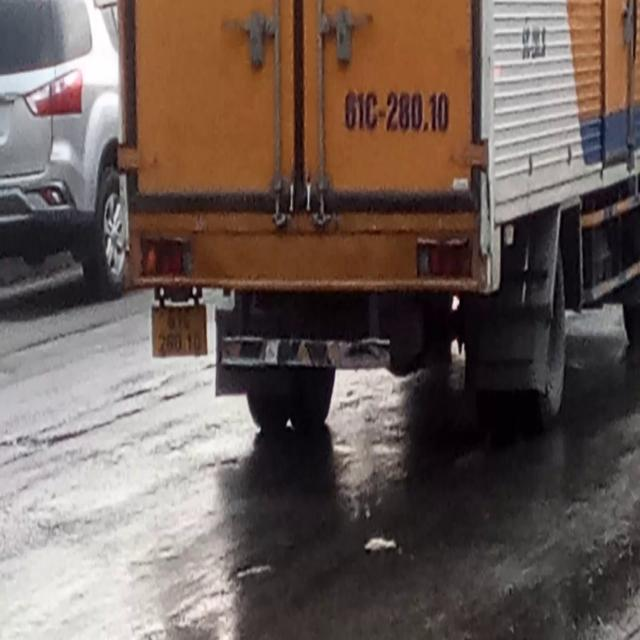bien_vang: (149, 301, 210, 360)
